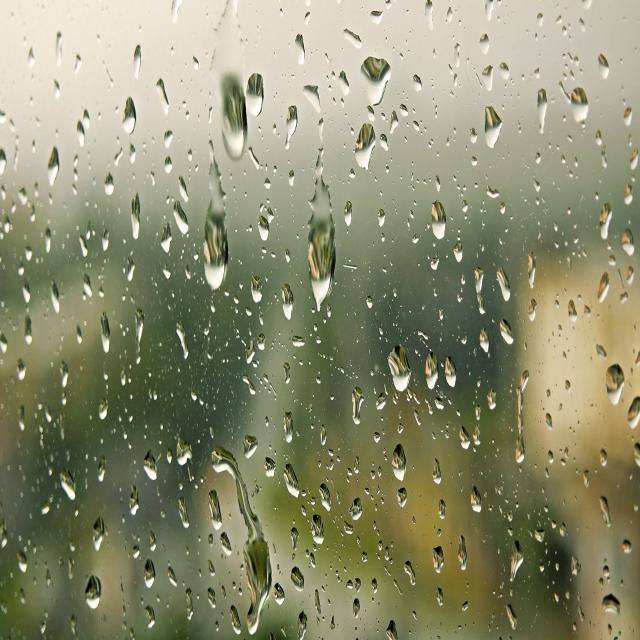raindrop: (234, 476, 274, 640), (202, 190, 236, 318), (216, 72, 257, 172), (306, 196, 338, 318), (352, 40, 398, 120), (202, 437, 250, 501), (350, 110, 385, 186), (78, 560, 116, 622), (560, 83, 595, 149), (243, 54, 279, 118), (424, 190, 456, 256), (124, 178, 152, 251), (382, 332, 412, 400), (114, 83, 144, 147), (382, 437, 412, 497), (602, 348, 628, 416), (284, 454, 310, 518), (139, 546, 164, 604), (85, 499, 109, 558), (442, 346, 466, 402), (479, 91, 502, 149), (45, 138, 63, 206), (423, 336, 441, 399), (58, 458, 81, 504)
